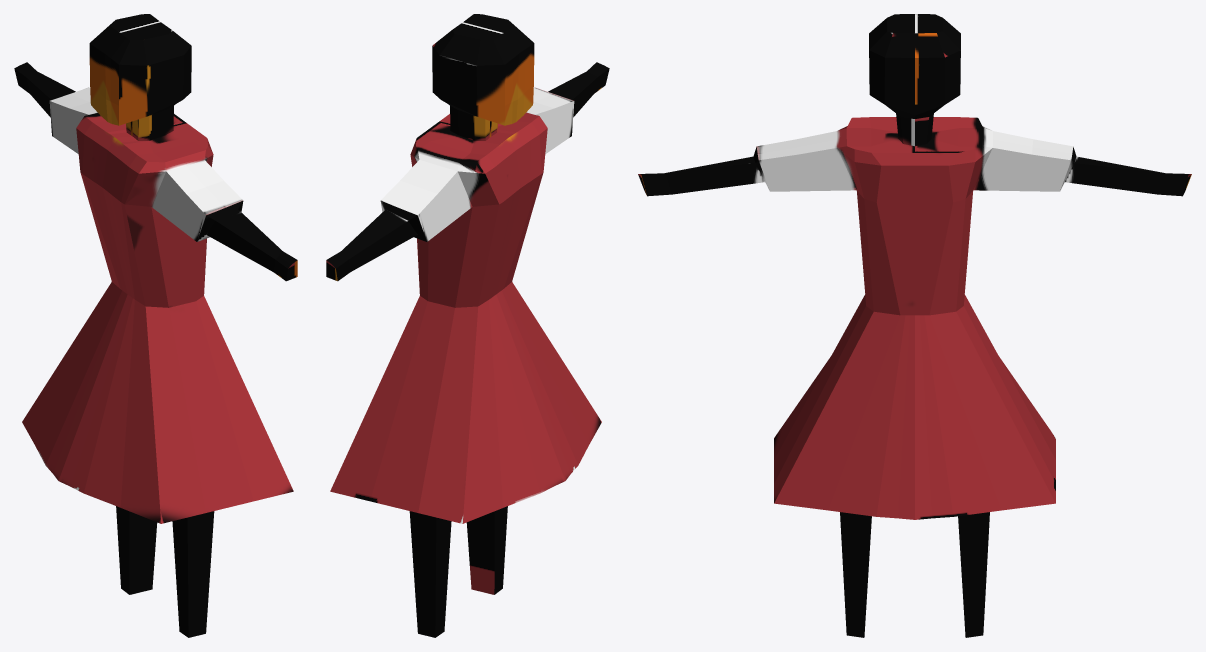
File: pjCHAR.fbx
The picture shows the model from 3 angles, left to right: view 1: azimuth 30°, elevation 25°; view 2: azimuth 150°, elevation 25°; view 3: azimuth 270°, elevation 25°; orthographic projection.
Visible parts, largest first — view 1: Cube; view 2: Cube; view 3: Cube.
Boxes of the visible parts, <box> form: Cube: <box>14,14,297,637</box>; Cube: <box>326,14,609,637</box>; Cube: <box>638,14,1191,637</box>.
Size of the model in its own units: 300 by 849 by 715.
1 material, 1 textured.
